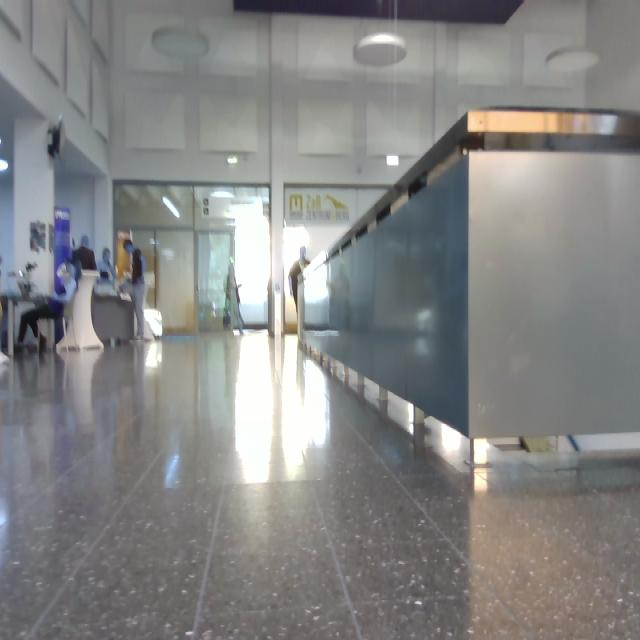desk: (94, 297, 135, 343)
door: (199, 233, 234, 332)
light bulb: (154, 28, 210, 59), (355, 34, 406, 67), (547, 48, 600, 74), (164, 198, 181, 219), (1, 158, 10, 172)
person: (16, 261, 77, 352), (125, 239, 146, 339), (224, 259, 245, 334), (74, 236, 97, 271), (99, 248, 117, 285)
pillar: (16, 119, 56, 295)
staircase: (304, 113, 640, 439)
table: (65, 271, 105, 349)
tiled floor: (1, 334, 640, 639)
